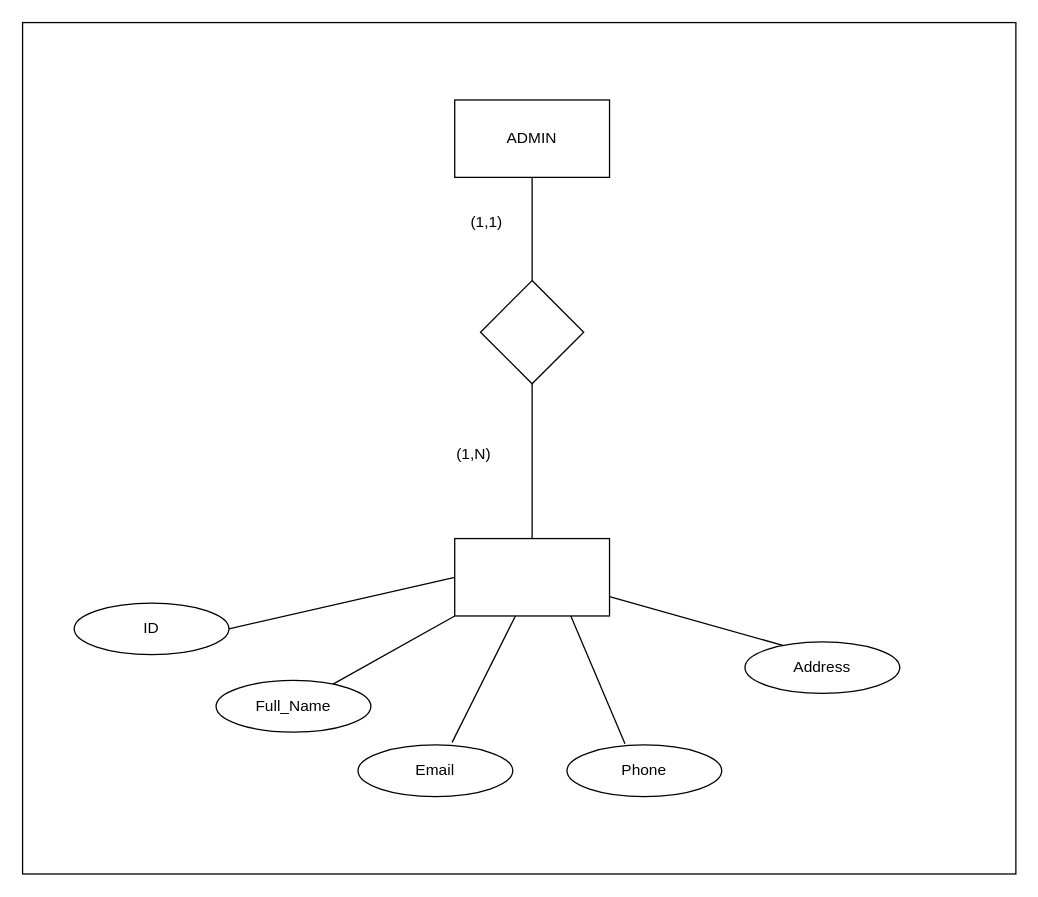
Some shapes in this 1038 by 897 pixel diagram are drawn without their labels. The centre of each missing label's shape, as x and y in pixels:
"CONTACT" belongs at [531,576].
"CREATES" belongs at [531,331].
